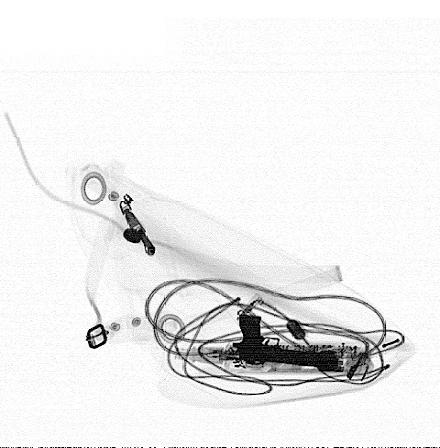Gun: (231, 307, 344, 372)
